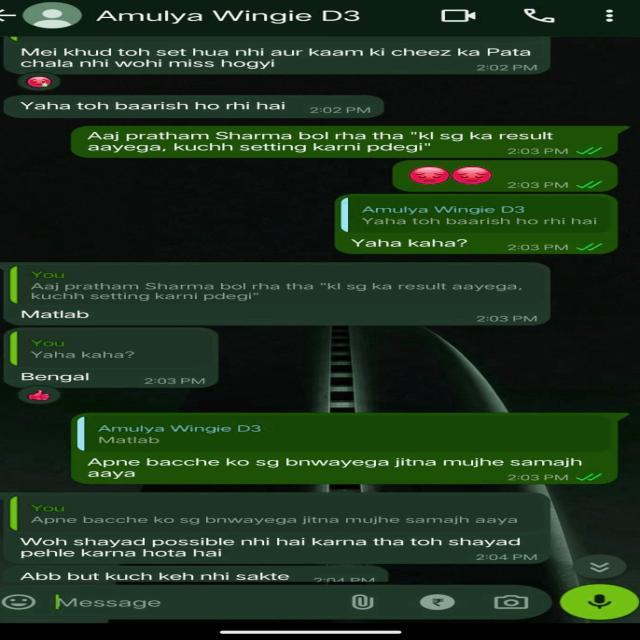scam: (5, 490, 555, 567), (0, 260, 559, 328), (4, 38, 559, 74), (4, 332, 226, 388), (0, 96, 389, 122), (6, 566, 398, 584)
